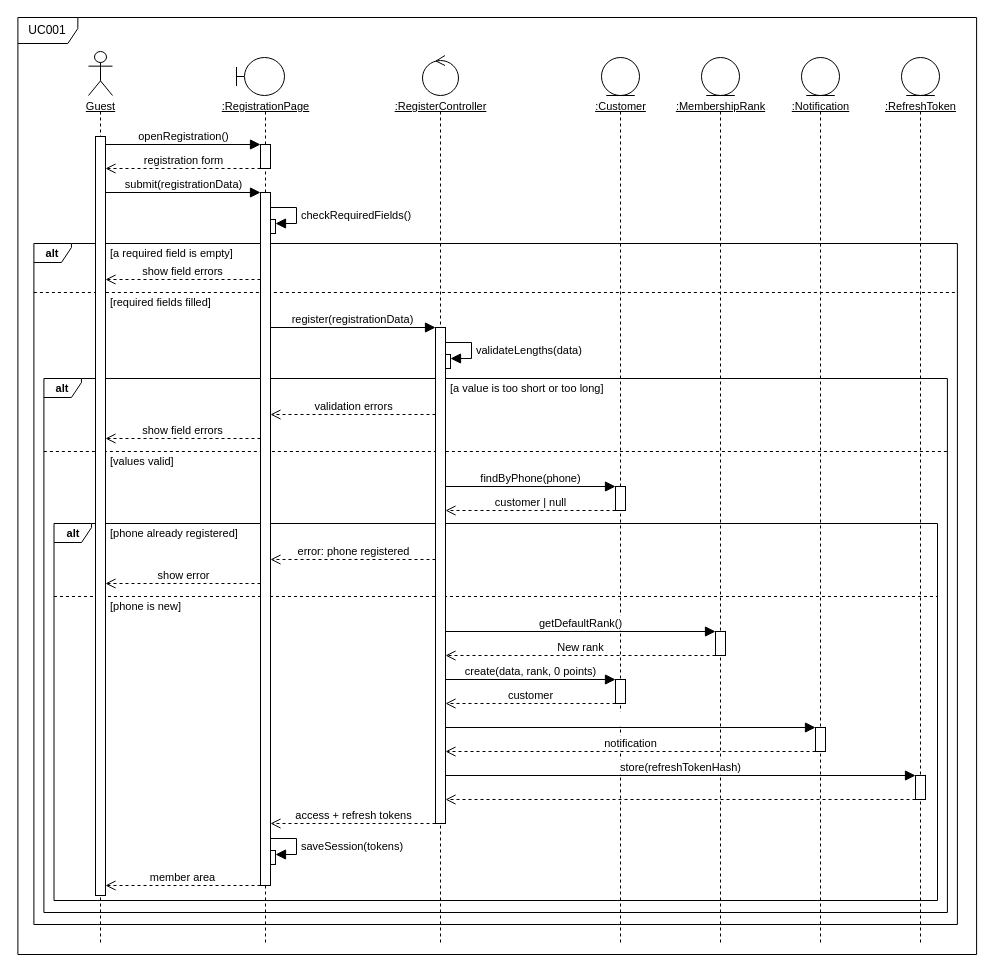
The diagram is 994 pixels wide and 972 high, and some of its shapes have lost their labels. The centre of each missing label's shape, as x and y in pixels:
createWelcome(customer): (x=630, y=718)
stored: (x=680, y=790)
